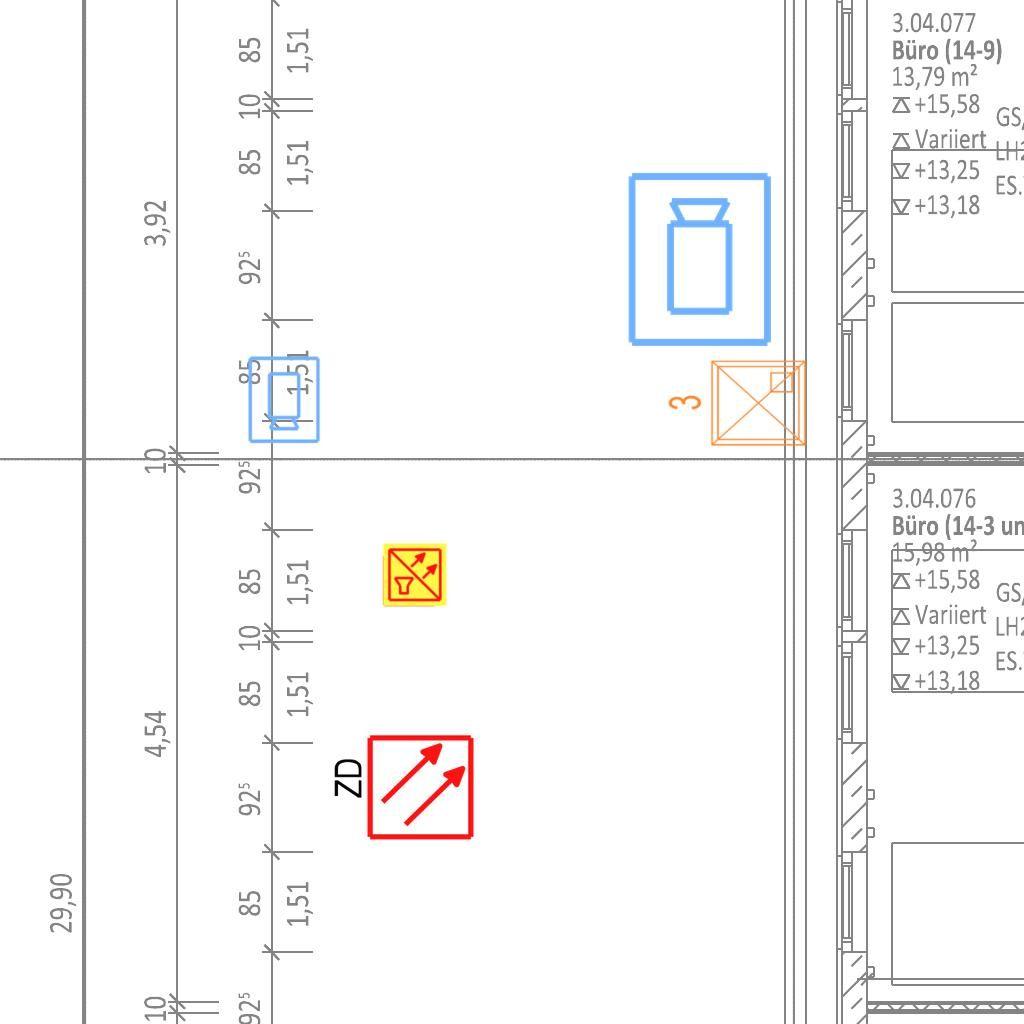Einbaudownlights_LED_Konferenzraeume: (663, 353, 813, 457)
KFO_Kamera_mit_Festobjektiv: (624, 169, 778, 351), (245, 354, 322, 445)
OKW_Multisensormelder_(Kombination_optischer_Rauch-Kahlenmonoxid_Waerme-Melder): (382, 542, 448, 608)
ZD_Melder_in_Zwischendecke_mit_Revisionsoeffnung_mind_40_x_40_cm: (327, 732, 476, 846)
